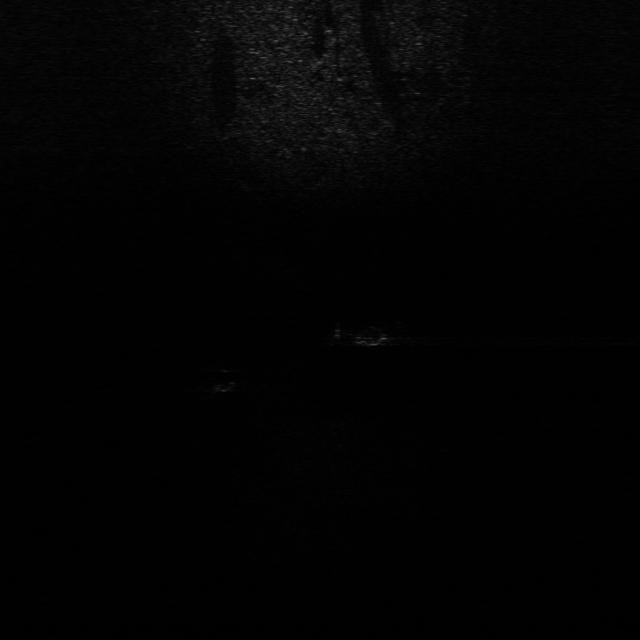ball: (197, 364, 241, 394)
human body: (324, 314, 414, 352)
